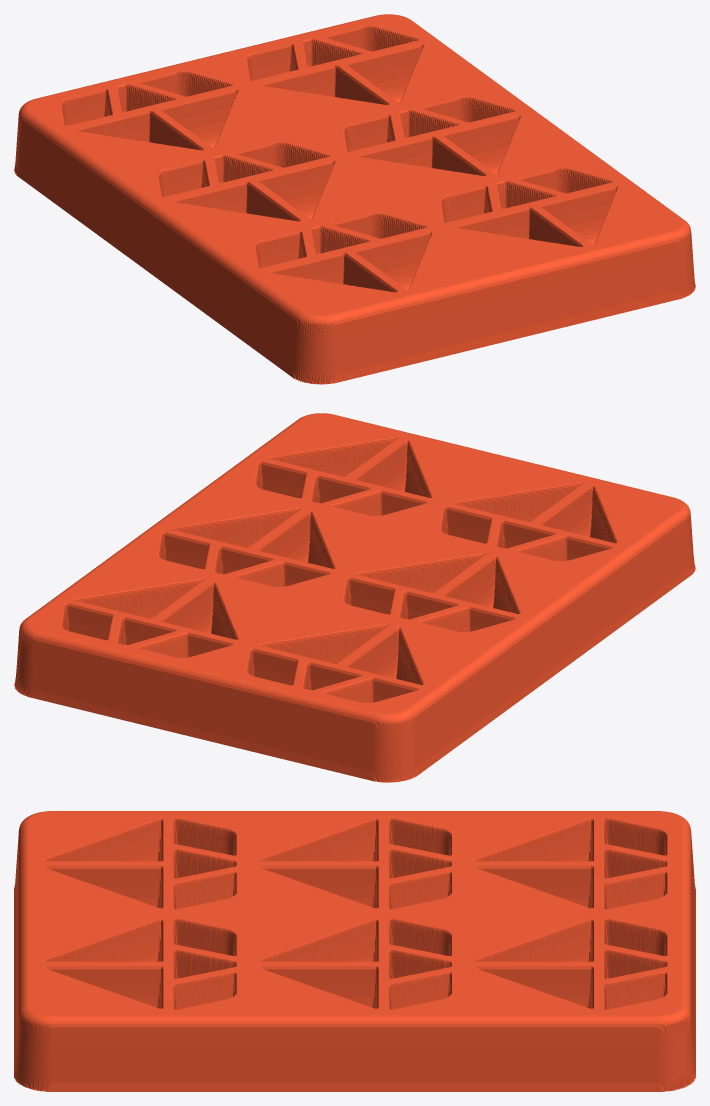
The model's file is mold.glb.
The picture shows the model from 3 angles, top to bottom: view 1: azimuth 30°, elevation 25°; view 2: azimuth 150°, elevation 25°; view 3: azimuth 270°, elevation 25°; orthographic projection. The views are drawn at different scales.
Parts seen in each view (by area): view 1: geometry_0; view 2: geometry_0; view 3: geometry_0.
Part boxes in pixels (x1,y1,x2,y2): geometry_0: (14,14,695,384); geometry_0: (14,413,695,782); geometry_0: (14,811,695,1091).
Size of the model in its own units: 0.1222 by 0.0185 by 0.163.
